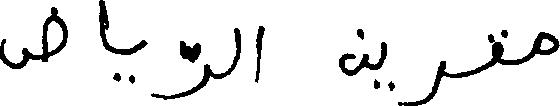X: (0, 2, 65, 73), (152, 36, 208, 104), (401, 56, 443, 105), (340, 24, 365, 80), (535, 27, 559, 59), (231, 23, 240, 76), (100, 0, 108, 55), (257, 21, 263, 87), (494, 25, 502, 69), (381, 37, 385, 71), (141, 35, 146, 53)
